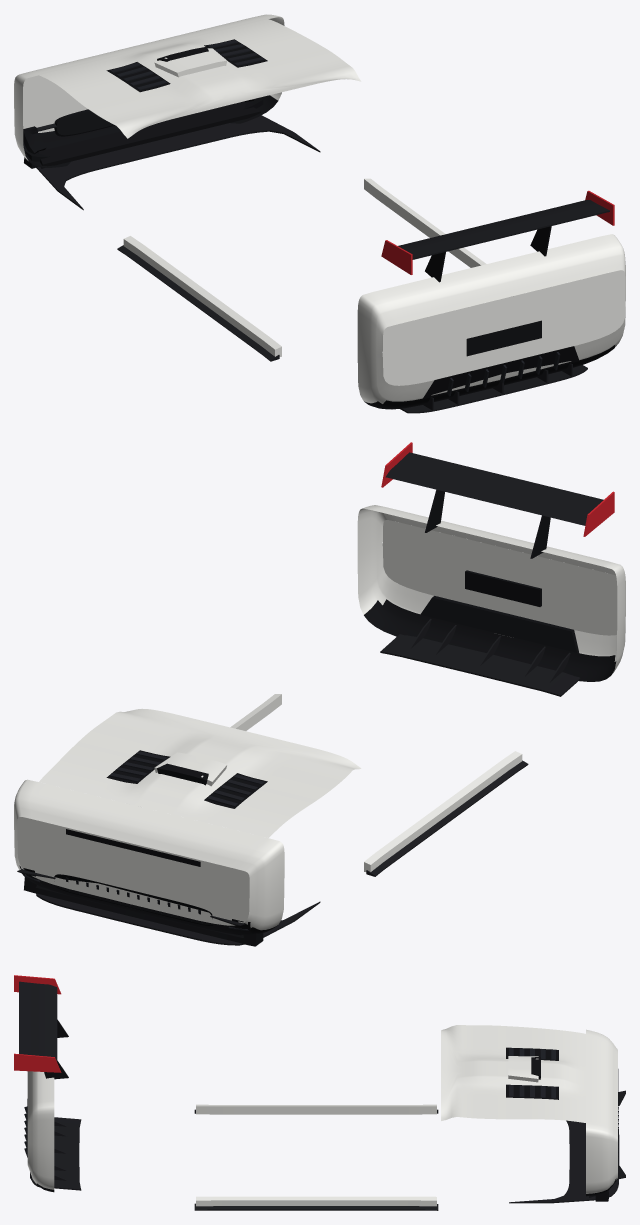
Rendered from kit_track.glb.
3 views of the same model, one above another, from view 1: azimuth 30°, elevation 25°; view 2: azimuth 150°, elevation 25°; view 3: azimuth 270°, elevation 25° (orthographic). The views are drawn at different scales.
Parts seen in each view (by area): view 1: bumper_front__track, bumper_rear__track, hood__track, spoiler__track, skirts__track; view 2: bumper_front__track, hood__track, bumper_rear__track, spoiler__track, skirts__track; view 3: hood__track, bumper_front__track, skirts__track, bumper_rear__track, spoiler__track.
Boxes of the visible parts, x1,y1,x2,y2 form: bumper_front__track: (14, 14, 625, 385); bumper_rear__track: (357, 234, 625, 413); hood__track: (39, 19, 361, 138); spoiler__track: (381, 190, 614, 282); skirts__track: (117, 178, 486, 361); bumper_front__track: (14, 520, 617, 946); hood__track: (39, 708, 361, 837); bumper_rear__track: (357, 505, 625, 696); spoiler__track: (381, 442, 614, 558); skirts__track: (230, 694, 528, 876); hood__track: (441, 1025, 585, 1122); bumper_front__track: (509, 1029, 625, 1203); skirts__track: (194, 1104, 438, 1210); bumper_rear__track: (24, 1071, 81, 1192); spoiler__track: (14, 975, 68, 1079).
Size of what is drawn, in the model's own units: 1.88 by 1.26 by 4.79.
